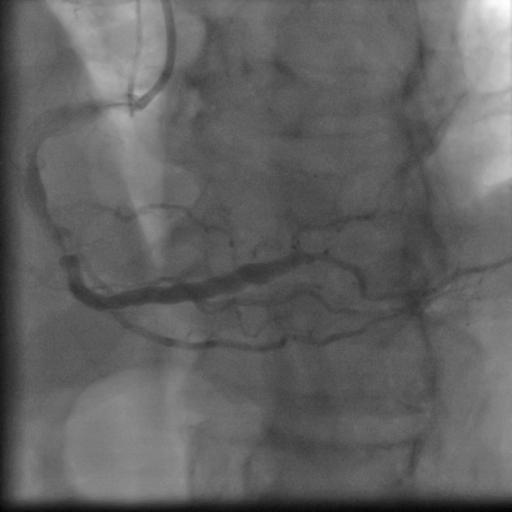Stenosis: (35, 213, 86, 267)
